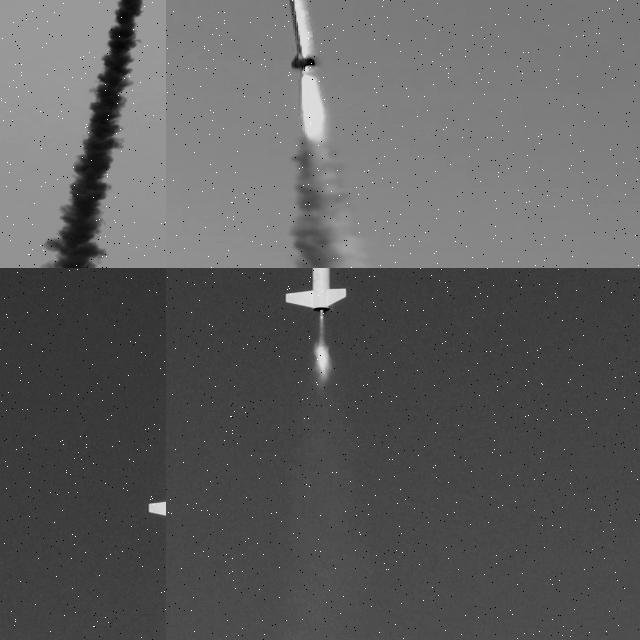Rocket: (147, 321, 166, 524), (284, 268, 349, 314), (286, 0, 314, 68)
